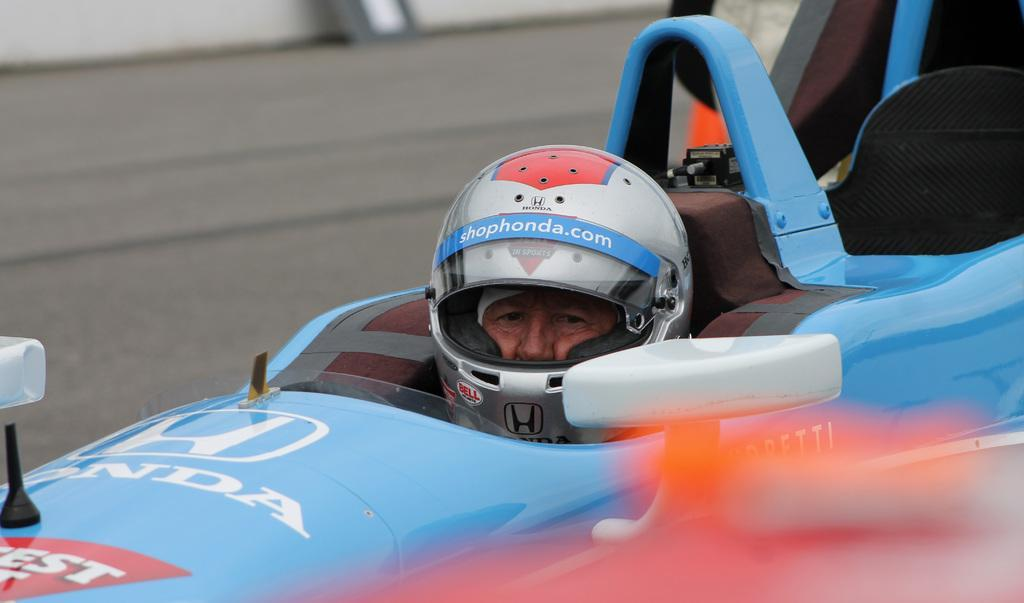helmet: (423, 143, 694, 448)
